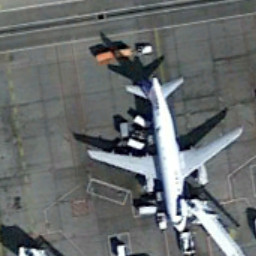Airplane: (80, 68, 252, 244)
